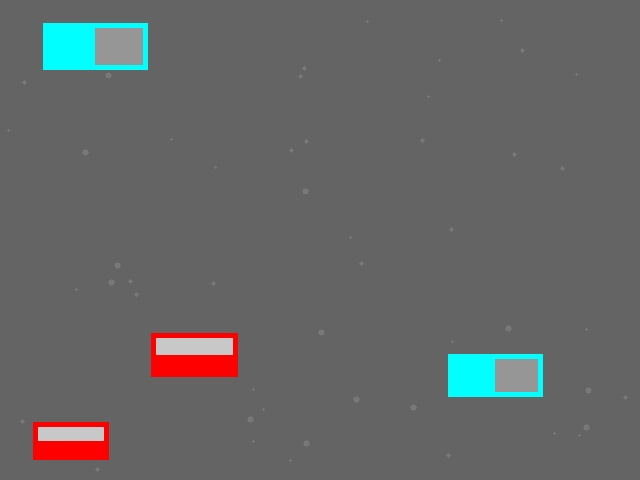car: (151, 333, 237, 376), (33, 422, 108, 459)
truck: (43, 23, 147, 69), (448, 354, 542, 396)
